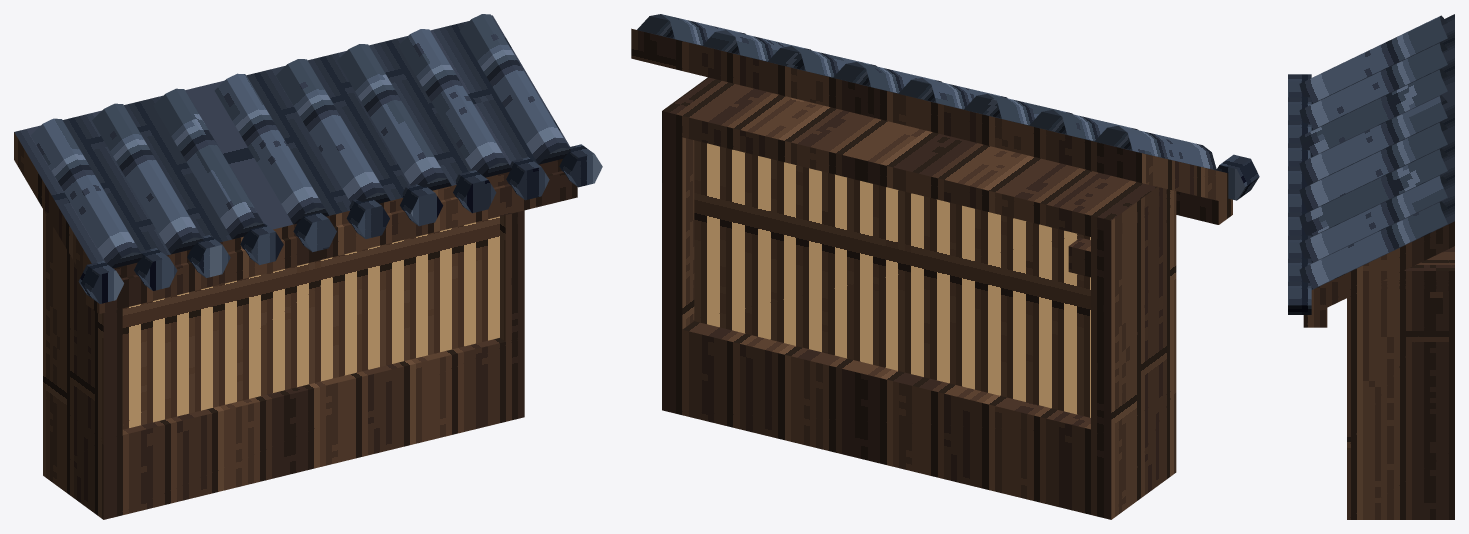
File: JP_BayWindow_Lattice_2m.glb
3 renders of one model, left to right at view 1: azimuth 30°, elevation 25°; view 2: azimuth 150°, elevation 25°; view 3: azimuth 270°, elevation 25°, orthographic. The views are drawn at different scales.
Parts seen in each view (by area): view 1: JP_BayWindow_Lattice_2m; view 2: JP_BayWindow_Lattice_2m; view 3: JP_BayWindow_Lattice_2m.
Part boxes in pixels (x1=…): JP_BayWindow_Lattice_2m: x1=14, y1=14, x2=602, y2=519; JP_BayWindow_Lattice_2m: x1=631, y1=14, x2=1259, y2=519; JP_BayWindow_Lattice_2m: x1=1288, y1=14, x2=1454, y2=519.
Bounding box in the file's own units: 2.67 × 1.81 × 0.85.
Materials: 5 (5 with a texture image).
